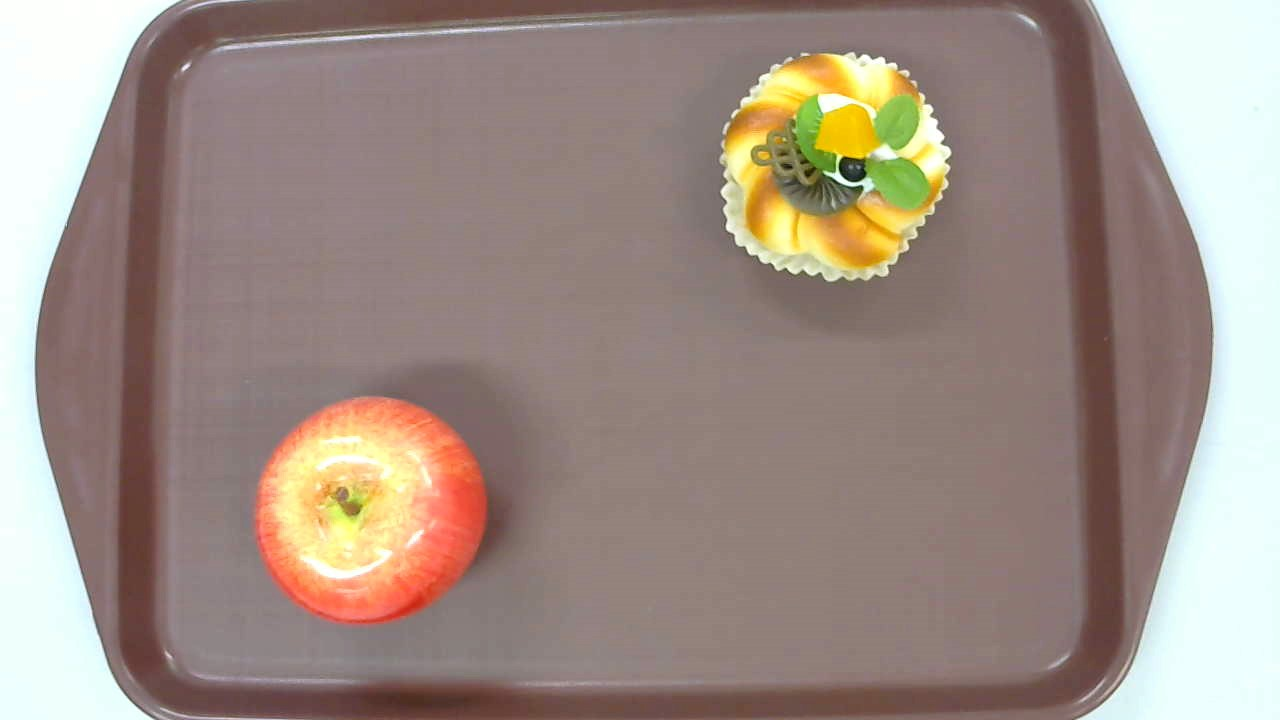fruit tart: (717, 50, 952, 284)
red apple: (253, 395, 485, 625)
